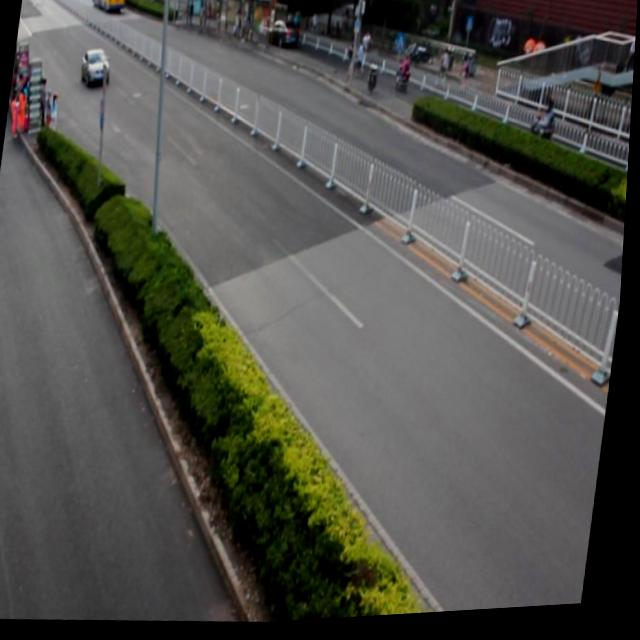car: (81, 47, 114, 88), (264, 20, 302, 54)
